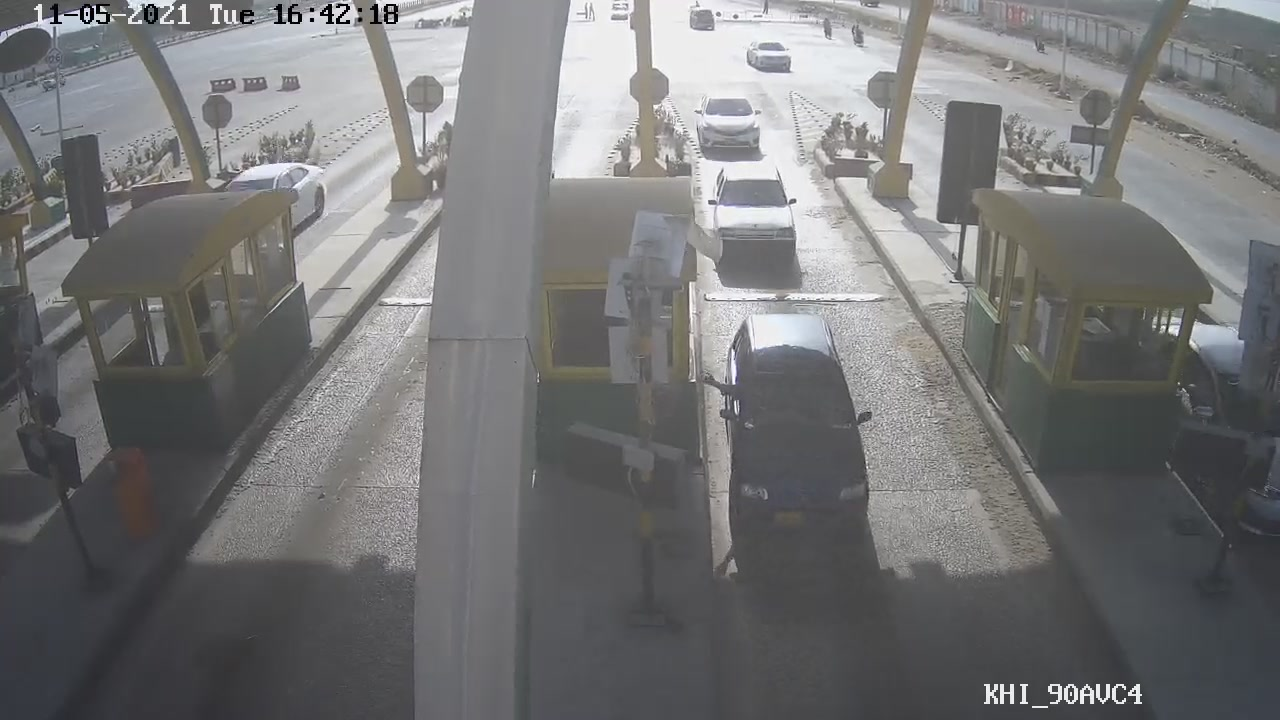F1: (723, 314, 886, 555), (707, 159, 804, 270)
